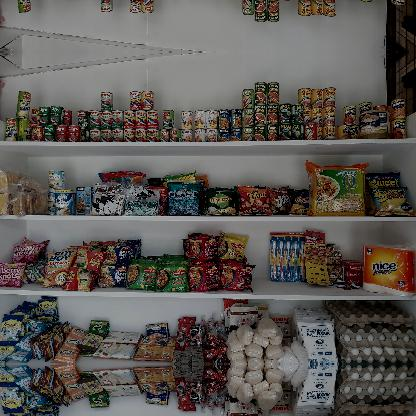Lady-s-Choice: (357, 110, 391, 138)
